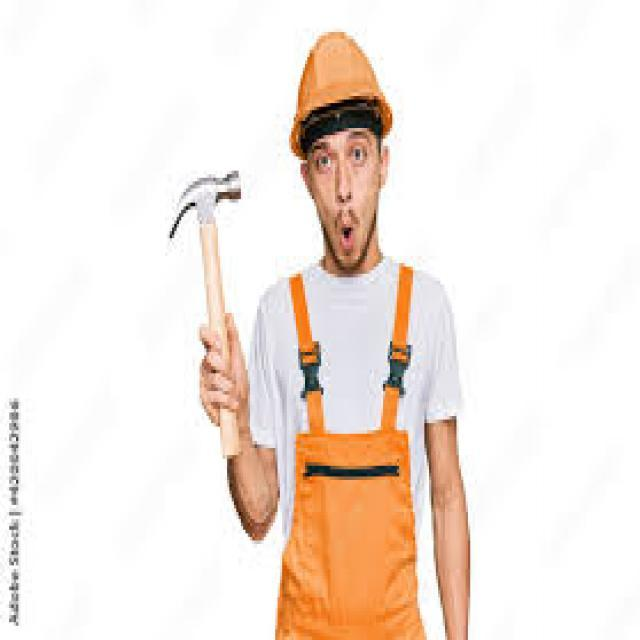hammer: (146, 160, 254, 470)
